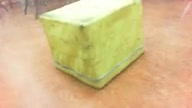cube: (39, 1, 144, 89)
